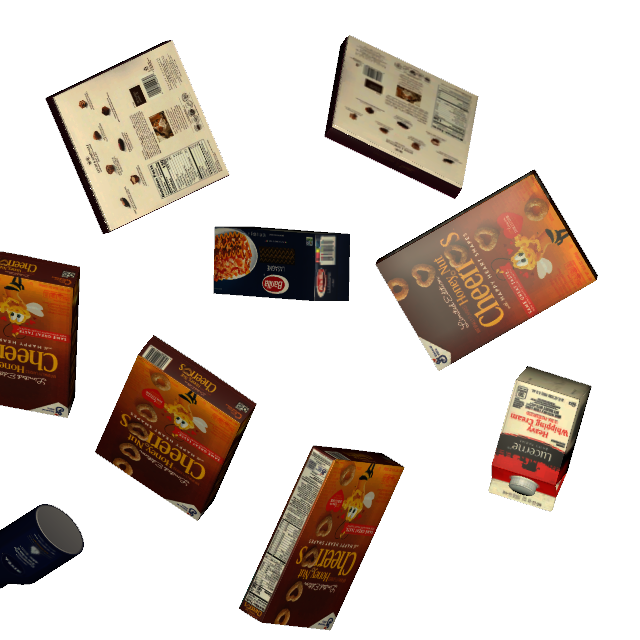candy_minipralines_lindt: (45, 40, 229, 234), (324, 35, 478, 199)
cereal_cheerios_honeynut: (376, 169, 598, 371), (239, 445, 405, 630), (95, 335, 256, 521), (0, 251, 80, 418)
drink_whippingcream_lucerne: (489, 366, 592, 511)
lotion_essentially_nivea: (0, 504, 84, 589)
pasta_lasagne_barilla: (213, 226, 350, 301)
